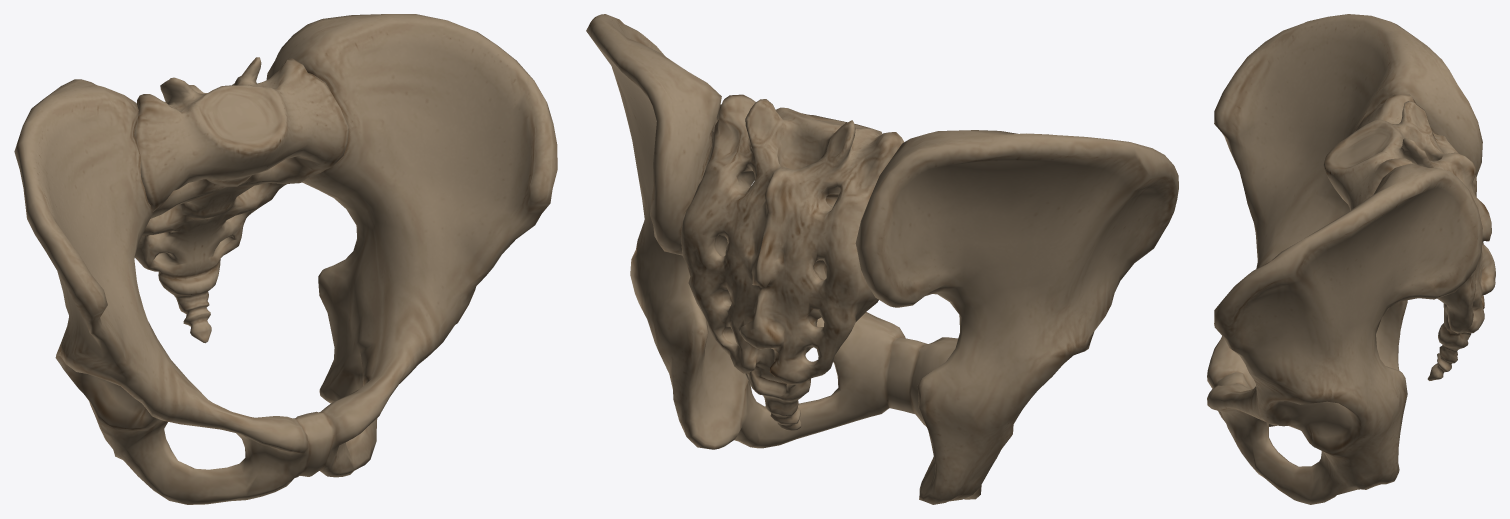
File: Female_Pelvis_Skeleton.FBX
The picture shows the model from 3 angles, left to right: view 1: azimuth 30°, elevation 25°; view 2: azimuth 150°, elevation 25°; view 3: azimuth 270°, elevation 25°; orthographic projection. The views are drawn at different scales.
Visible parts, largest first — view 1: Pelvis; view 2: Pelvis; view 3: Pelvis.
Part boxes in pixels (<box>): Pelvis: <box>14,14,557,504</box>; Pelvis: <box>586,14,1178,504</box>; Pelvis: <box>1207,14,1495,504</box>.
Size of the model in its own units: 33.55 by 24.31 by 17.9.
1 material, 1 textured.
